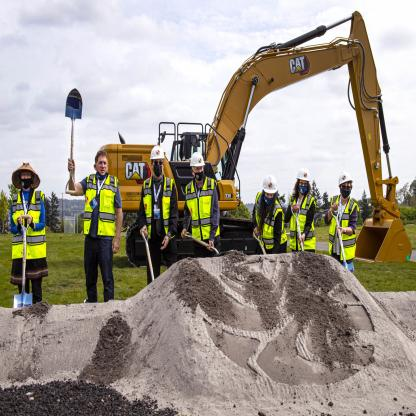person: (70, 134, 124, 306), (182, 144, 233, 291), (6, 154, 54, 310), (141, 131, 178, 296), (324, 160, 364, 293), (286, 166, 320, 267), (251, 181, 286, 263)
